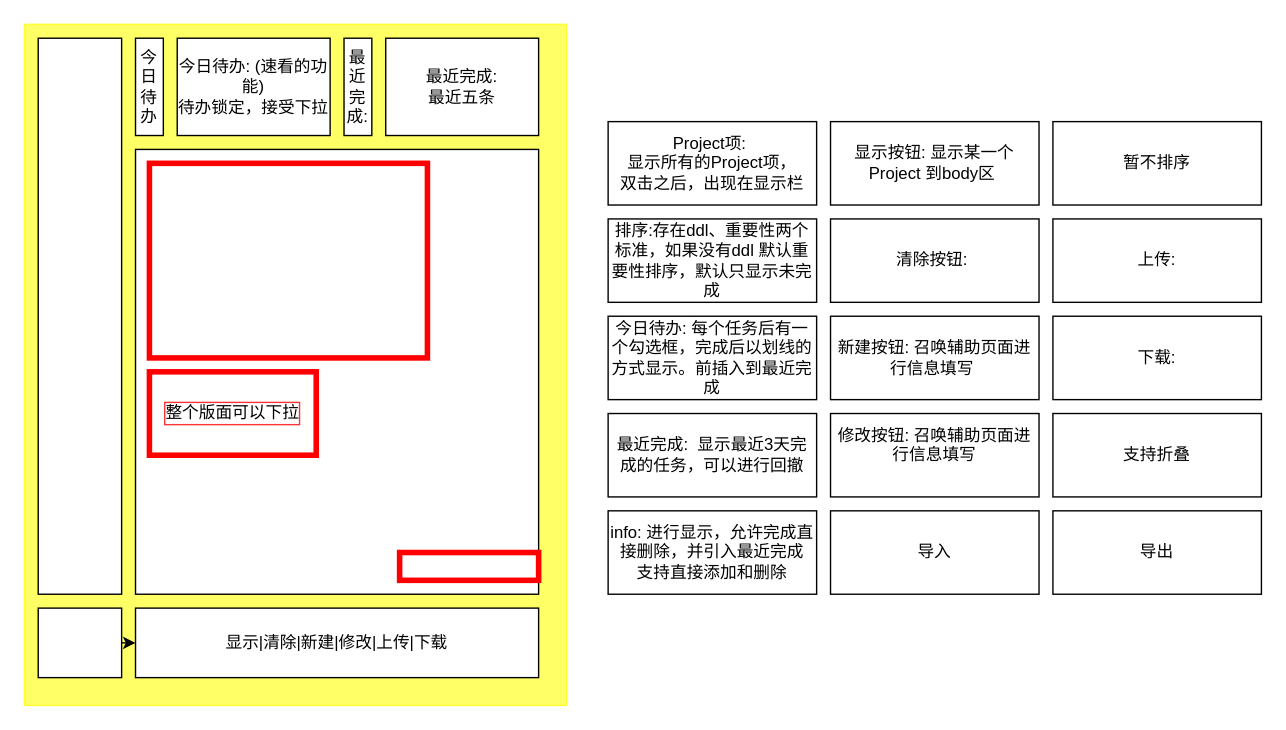
This 1286x730 diagram has some shape labels left out. The shapes that lost their labels are listed below. From the top down, each one's centre as x and y in pixels, then its label:
At pixel 288 260: "Project1: 可折叠 可隐藏 最大四级Level Level1 Level2 Level3 Project2: Level1 Level2 Level3".
At pixel 79 315: "Project 项".
At pixel 468 565: "页面栏".
At pixel 79 642: "排序: selector".
